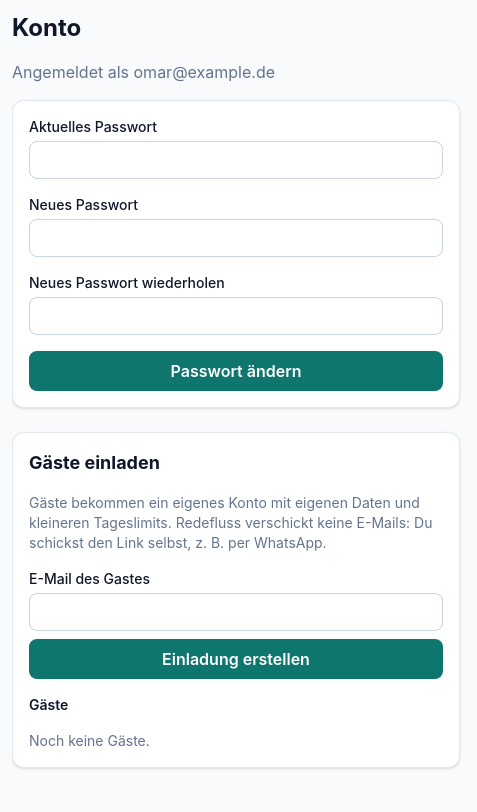
Konto › as owner › shows the server message when the address is taken
In the field labelled "E-Mail des Gastes": (236, 612) [29, 593, 443, 631], type "omar@example.de"
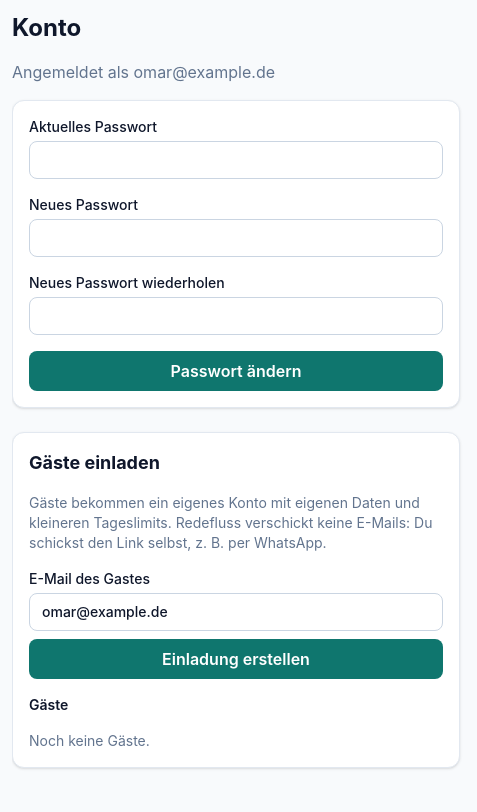
Click the button "Einladung erstellen": (236, 659) [29, 639, 443, 679]
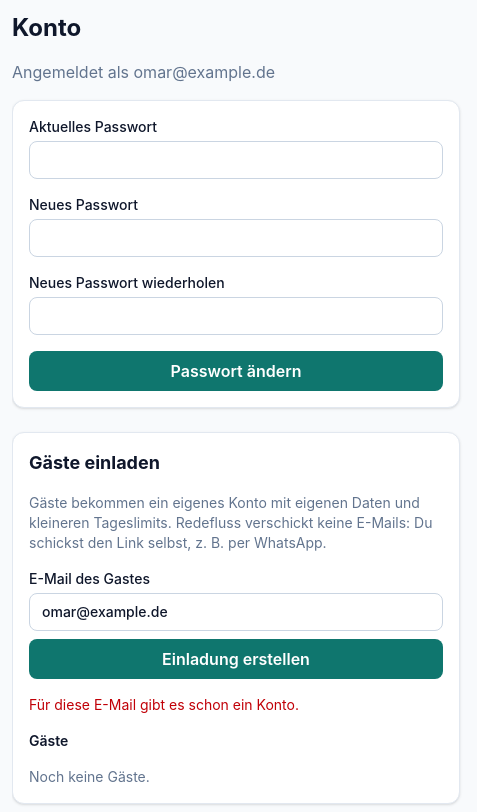
Now the message reads "Für diese E-Mail gibt es schon ein Konto.", box [29, 696, 299, 713]
